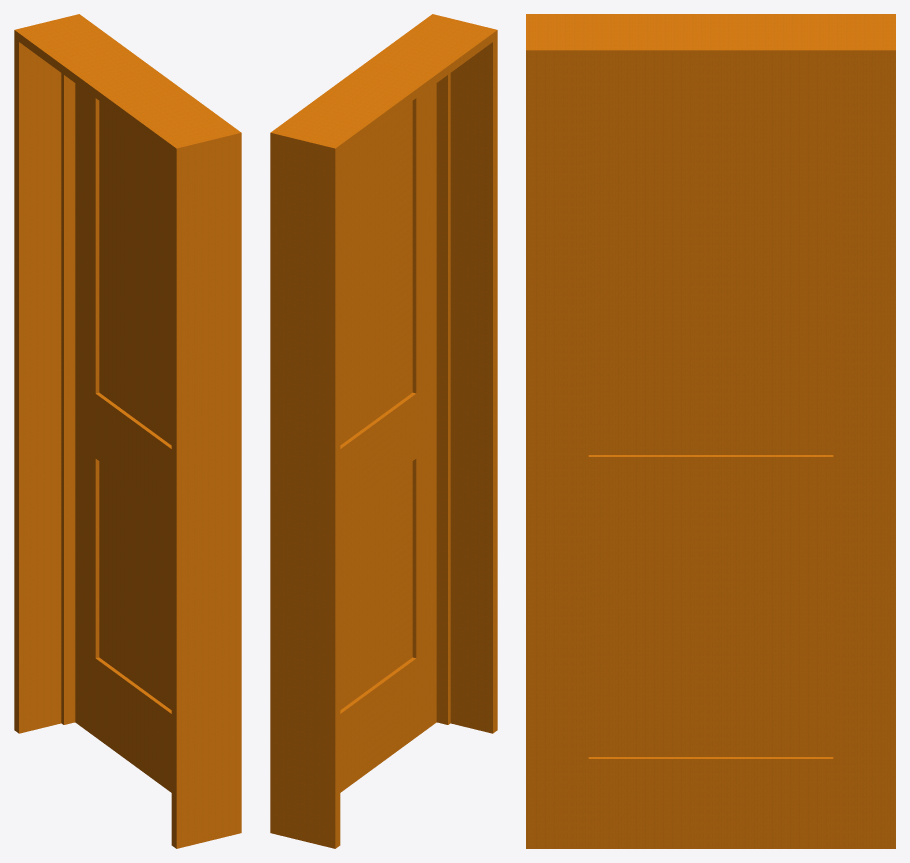
Rendered from Gate4333.glb.
The picture shows the model from 3 angles, left to right: view 1: azimuth 30°, elevation 25°; view 2: azimuth 150°, elevation 25°; view 3: azimuth 270°, elevation 25°; orthographic projection. The views are drawn at different scales.
Parts seen in each view (by area): view 1: Cherry; view 2: Cherry; view 3: Cherry.
Boxes of the visible parts, x1,y1,x2,y2 form: Cherry: [14, 14, 241, 848]; Cherry: [270, 14, 497, 848]; Cherry: [526, 14, 895, 848].
Size of the model in its own units: 0.2 by 2.06 by 0.8636.
1 material, 1 textured.
